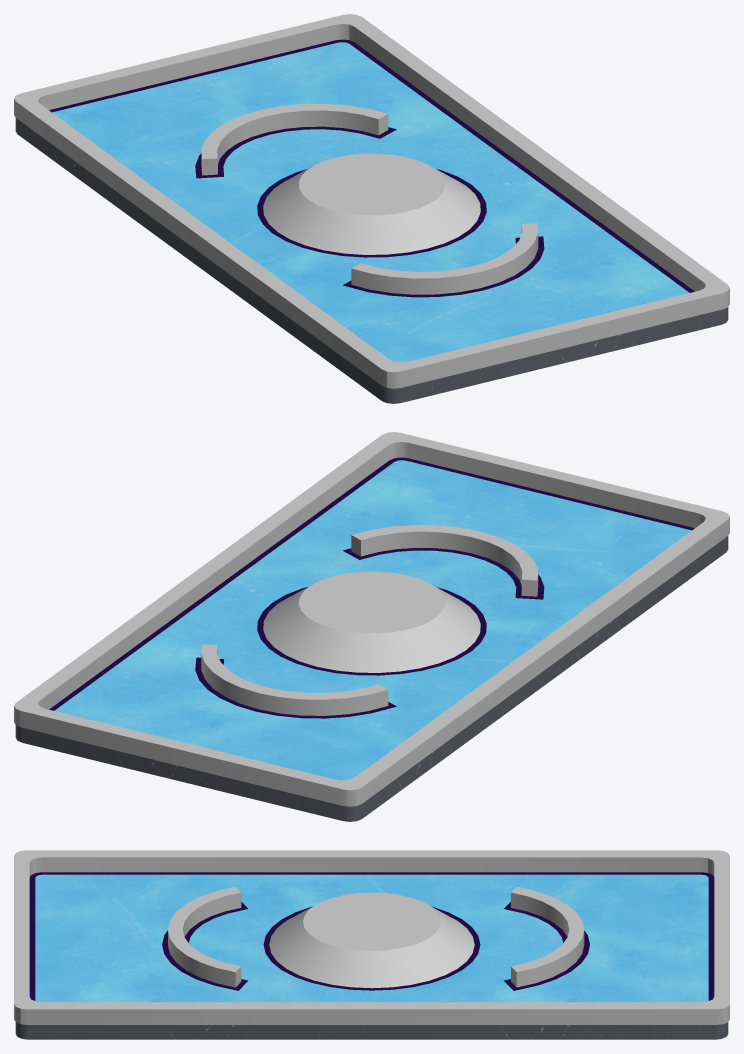
File: Duel_Stage 14.fbx
The picture shows the model from 3 angles, top to bottom: view 1: azimuth 30°, elevation 25°; view 2: azimuth 150°, elevation 25°; view 3: azimuth 270°, elevation 25°; orthographic projection. The views are drawn at different scales.
Parts seen in each view (by area): view 1: Plane.018, Plane.017, Cylinder.007, Cylinder.004, Cylinder.020, Cylinder.008; view 2: Plane.018, Plane.017, Cylinder.007, Cylinder.004, Cylinder.020, Cylinder.008; view 3: Plane.018, Plane.017, Cylinder.007, Cylinder.004, Cylinder.020, Cylinder.008.
Part boxes in pixels (<box>): Plane.018: <box>15,42,728,403</box>; Plane.017: <box>14,14,729,388</box>; Cylinder.007: <box>263,153,480,254</box>; Cylinder.004: <box>49,39,694,297</box>; Cylinder.020: <box>351,223,538,294</box>; Cylinder.008: <box>201,103,388,175</box>; Plane.018: <box>15,460,728,821</box>; Plane.017: <box>14,432,729,806</box>; Cylinder.007: <box>263,571,480,672</box>; Cylinder.004: <box>49,457,694,718</box>; Cylinder.020: <box>351,525,538,596</box>; Cylinder.008: <box>201,644,388,715</box>; Plane.018: <box>15,874,728,1039</box>; Plane.017: <box>14,850,729,1024</box>; Cylinder.007: <box>269,892,474,988</box>; Cylinder.004: <box>29,872,714,1000</box>; Cylinder.020: <box>168,886,241,987</box>; Cylinder.008: <box>511,887,584,987</box>.
Bounding box in the file's own units: 4400 × 500 × 8362.
